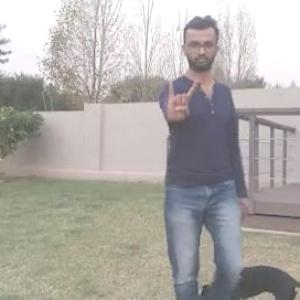takeoff-hand: (161, 66, 201, 126)
